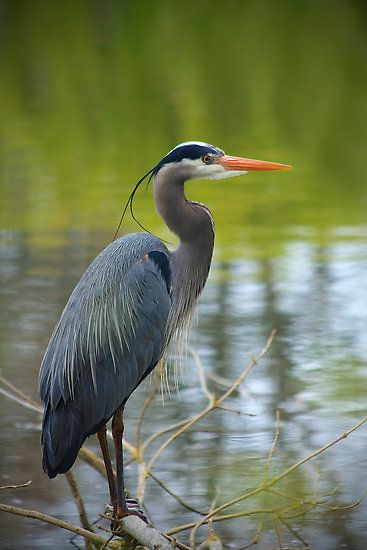heron: (36, 141, 293, 549)
